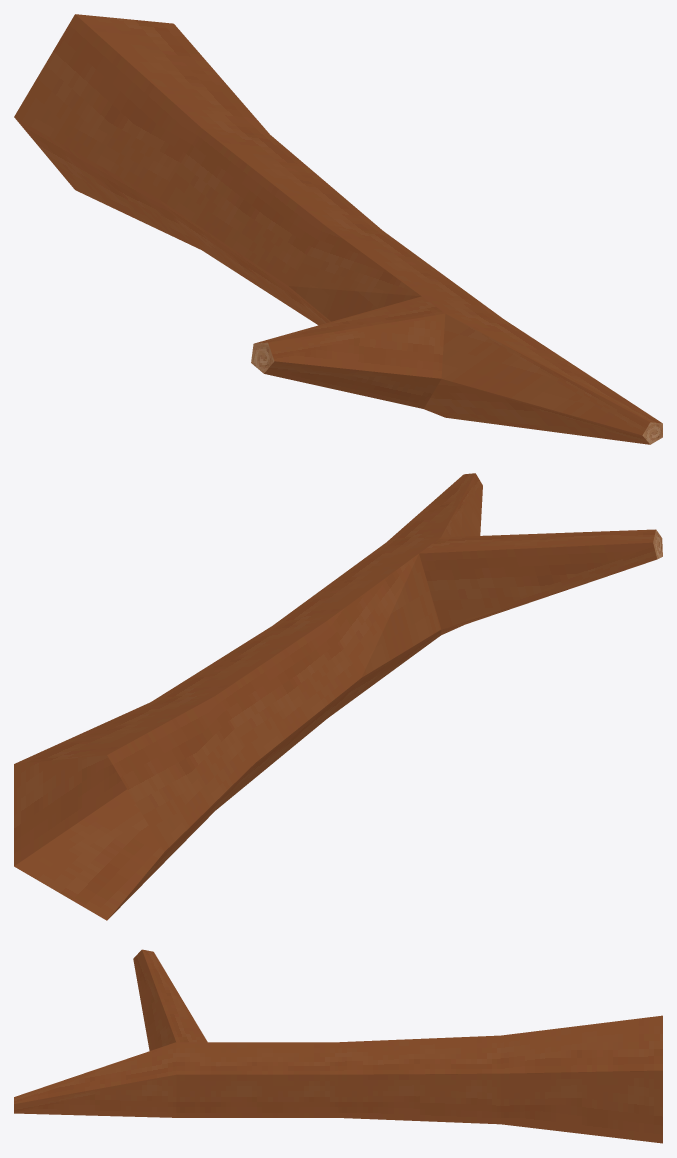
File: SM_AP_Tree_Trunk_4.glb
3 renders of one model, top to bottom at view 1: azimuth 30°, elevation 25°; view 2: azimuth 150°, elevation 25°; view 3: azimuth 270°, elevation 25°, orthographic. The views are drawn at different scales.
Parts seen in each view (by area): view 1: SM_AP_Tree_Trunk_4; view 2: SM_AP_Tree_Trunk_4; view 3: SM_AP_Tree_Trunk_4.
Boxes of the visible parts, x1,y1,x2,y2 form: SM_AP_Tree_Trunk_4: [14, 14, 662, 444]; SM_AP_Tree_Trunk_4: [14, 473, 662, 920]; SM_AP_Tree_Trunk_4: [14, 949, 662, 1143].
Bounding box in the file's own units: 5.9 × 3.27 × 16.
Materials: 1 (1 with a texture image).
